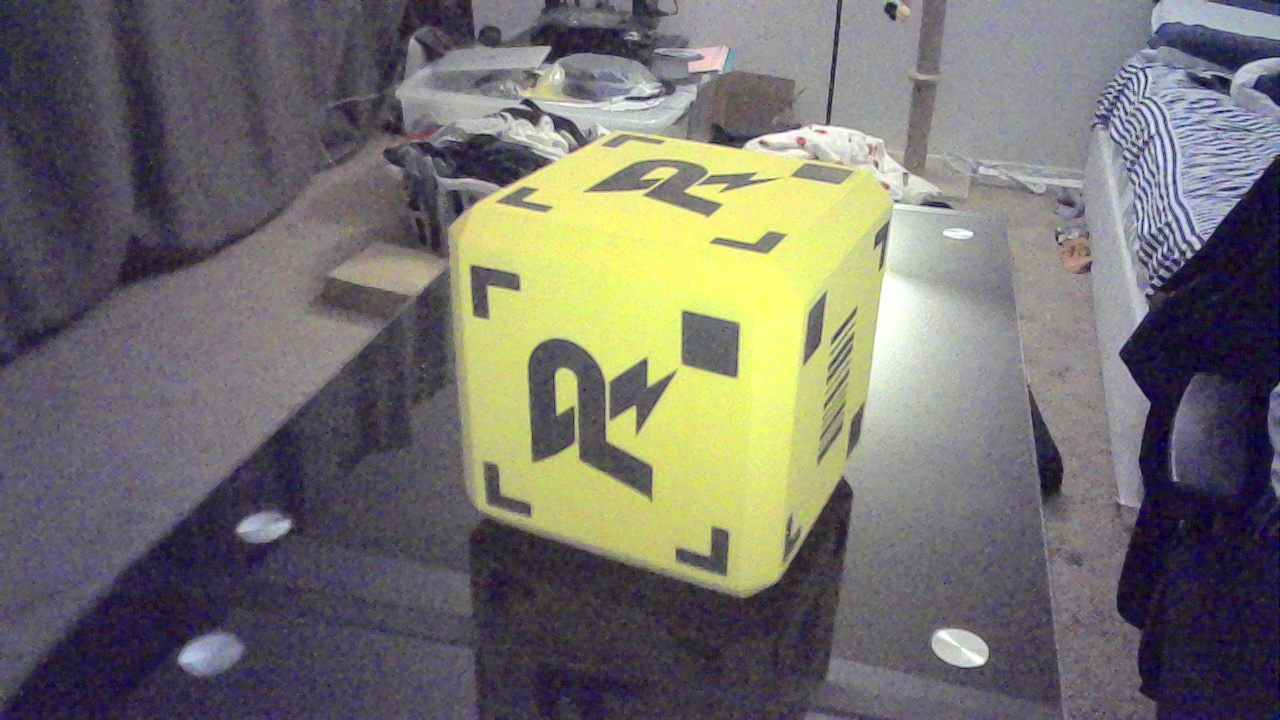Barcode: (821, 313, 877, 483)
R: (533, 314, 683, 510), (583, 157, 793, 228)
